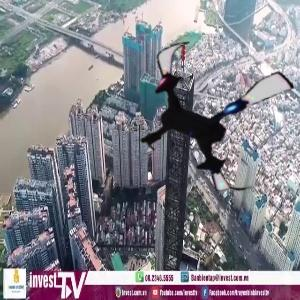drone: (128, 29, 299, 200)
